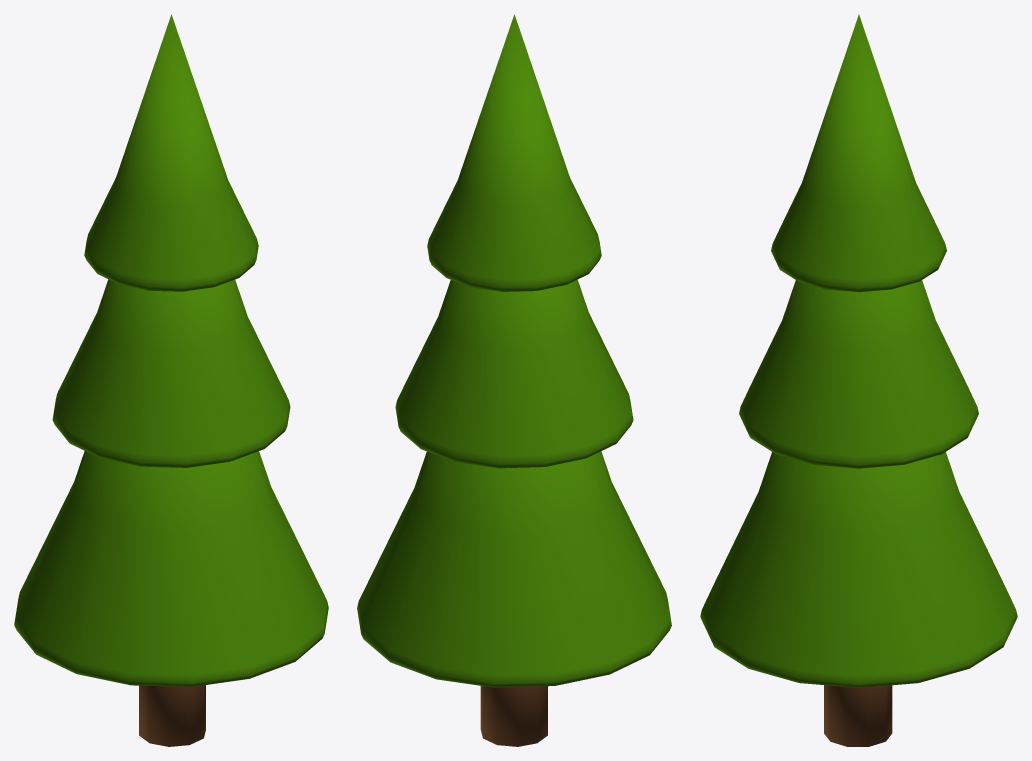
File: Tree.fbx
The picture shows the model from 3 angles, left to right: view 1: azimuth 30°, elevation 25°; view 2: azimuth 150°, elevation 25°; view 3: azimuth 270°, elevation 25°; orthographic projection.
Visible parts, largest first — view 1: Tree 02.003; view 2: Tree 02.003; view 3: Tree 02.003.
Boxes of the visible parts, left/top/right/bottom form: Tree 02.003: left=14, top=14, right=328, bottom=746; Tree 02.003: left=357, top=14, right=671, bottom=746; Tree 02.003: left=700, top=14, right=1017, bottom=746.
Bounding box in the file's own units: 116 × 290 × 116.
